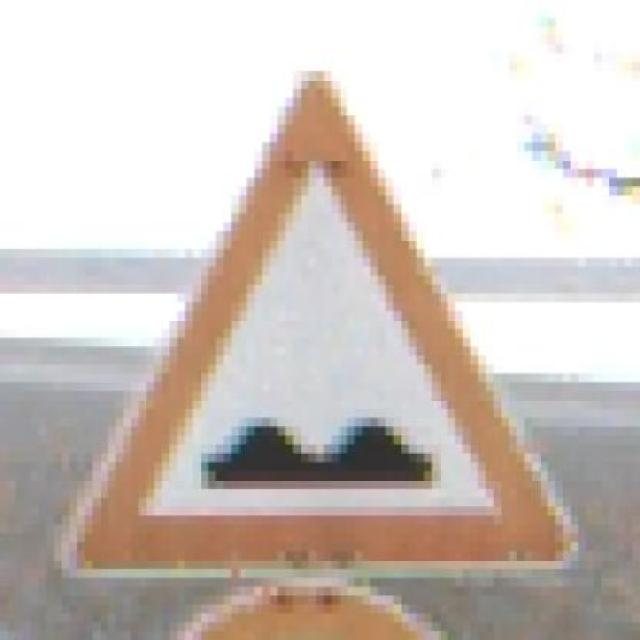Uneven Road: (62, 53, 586, 587)
